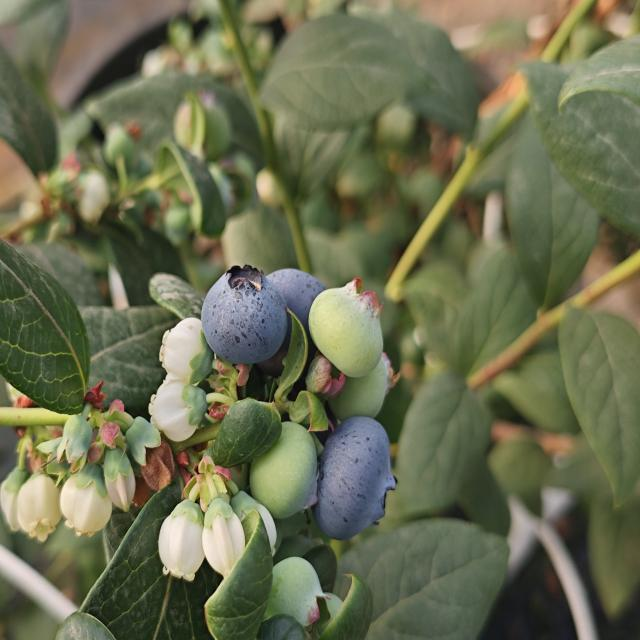ripe: (312, 414, 399, 543), (198, 262, 290, 368), (261, 254, 330, 353)
